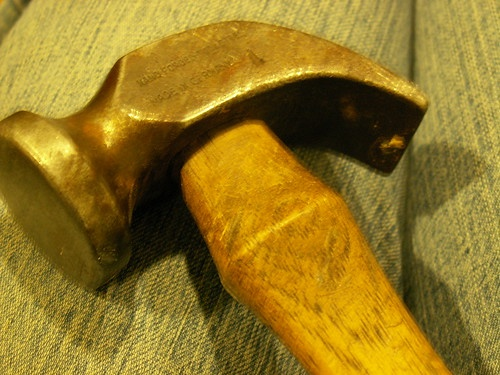hammer: (1, 17, 454, 369)
